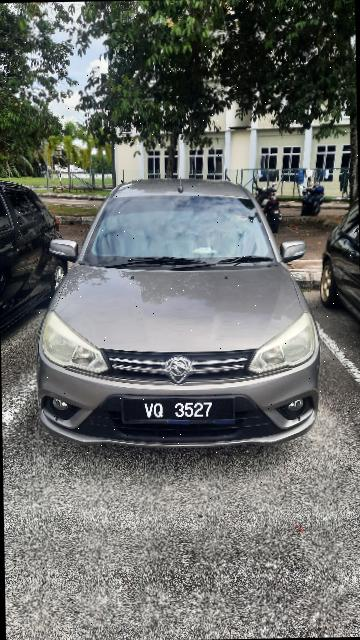License_Plate: (122, 393, 238, 426)
car: (39, 167, 332, 456)
